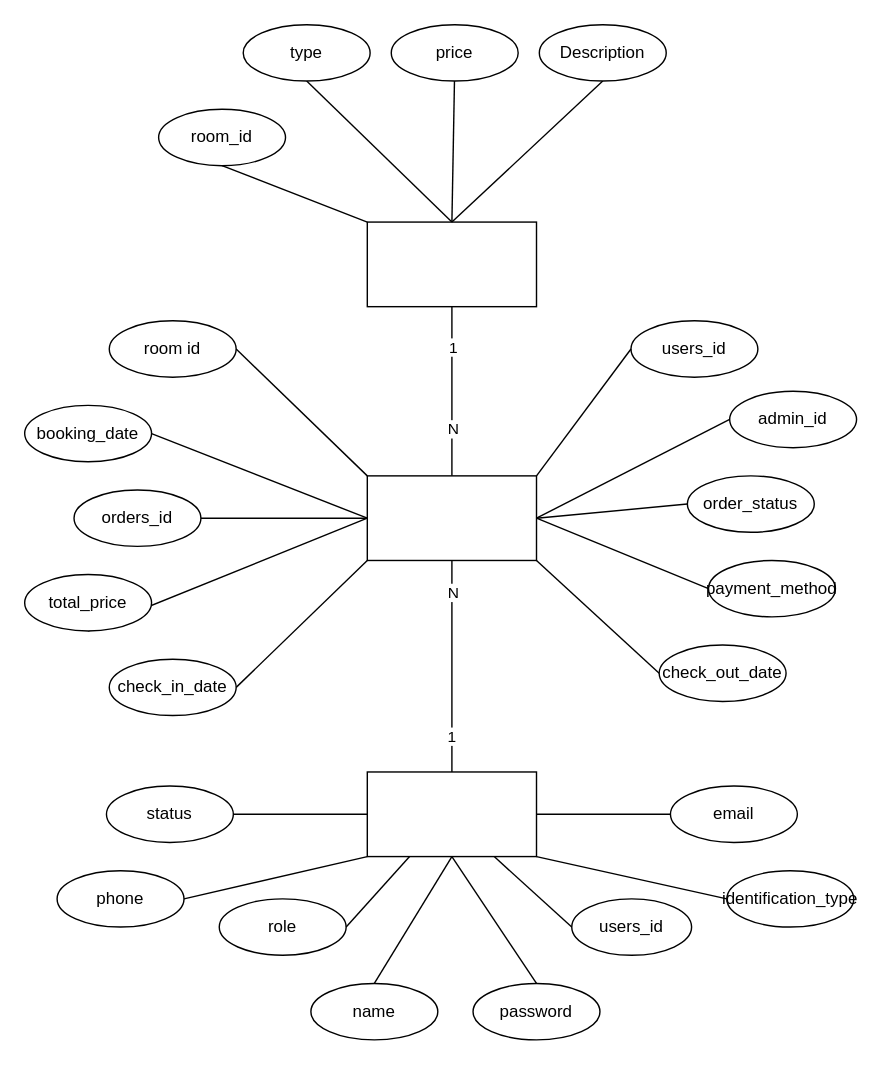
Image size: 883x1065. Some labels were removed from this diagram. Here are the shapes that lost their labels. From the top down, the centre of each, then its label:
the point at 451,264: room
the point at 451,517: orders
the point at 451,814: users
